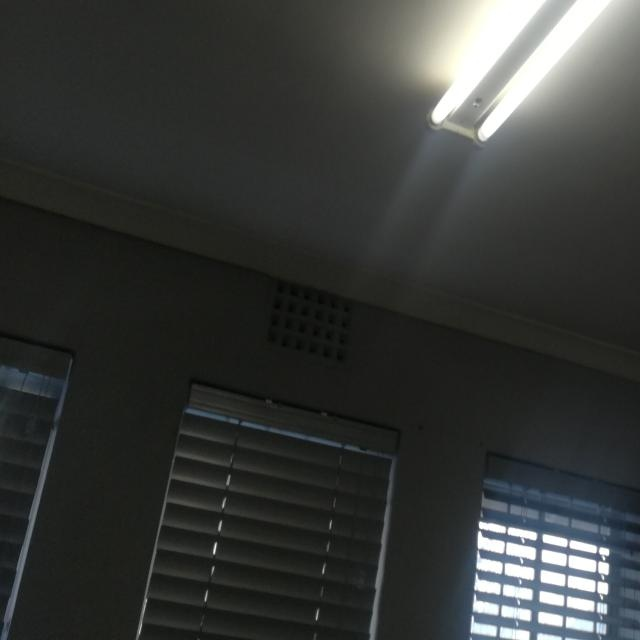fluorescent tube: (417, 0, 640, 166)
